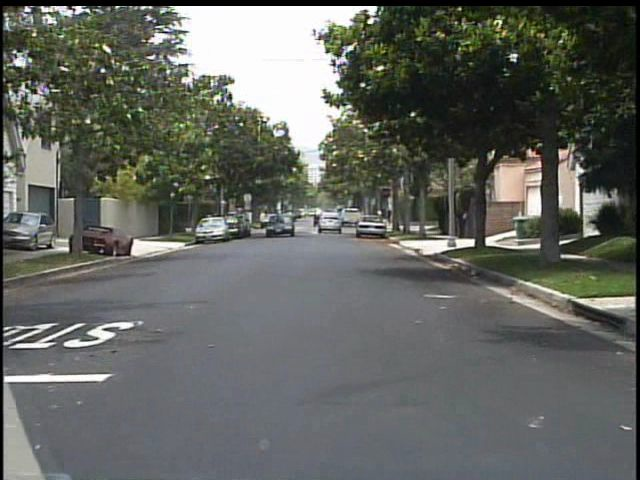person: (454, 199, 473, 243), (202, 207, 216, 233)
